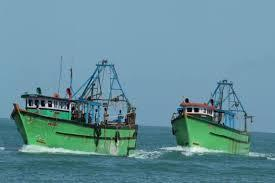fishing boat: (8, 54, 139, 160), (163, 76, 258, 156)
